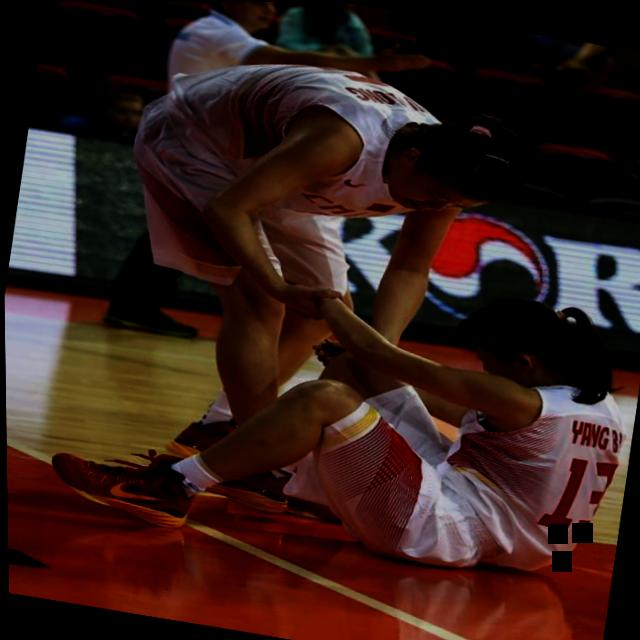Fall-Detected: (9, 194, 622, 593)
